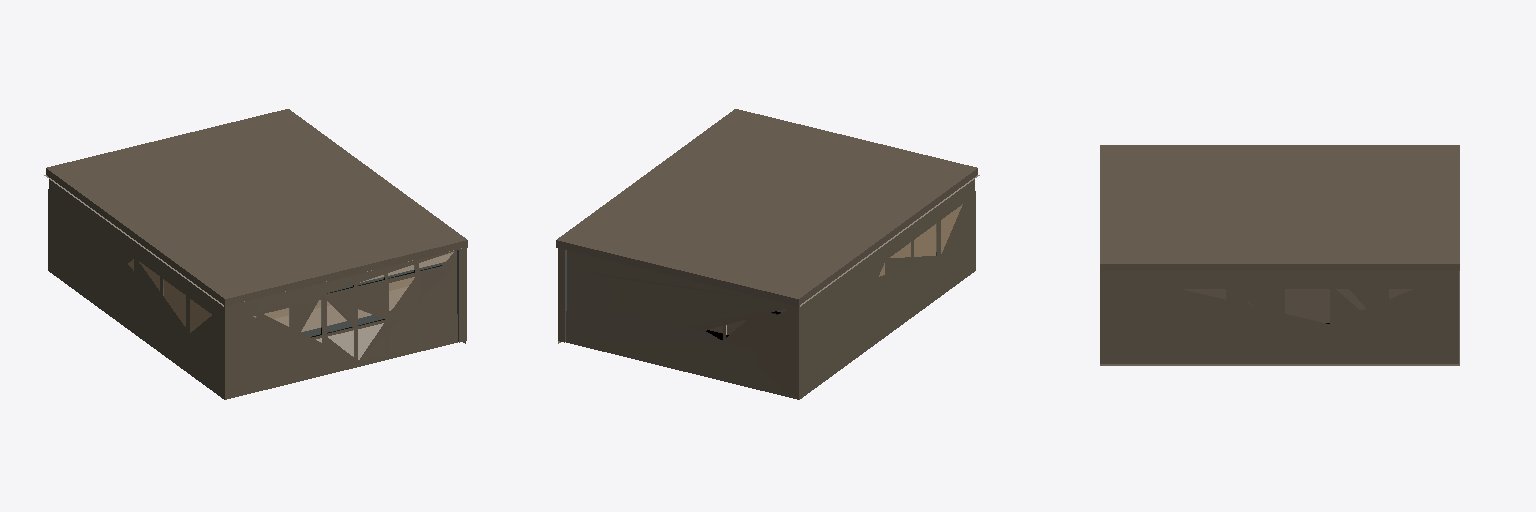
3 renders of one model, left to right at view 1: azimuth 30°, elevation 25°; view 2: azimuth 150°, elevation 25°; view 3: azimuth 270°, elevation 25°, orthographic.
Parts seen in each view (by area): view 1: Cubo, Plano.001, Ventanas_superiores.001, Ventanas_delanteras, Ventanas_inferiores_completas, VentanaSup1.004; view 2: Cubo, Plano.001, Ventanas_delanteras; view 3: Cubo, Plano.001, Ventanas_traseras.
Boxes of the visible parts, x1,y1,x2,y2 form: Cubo: [46, 109, 467, 306]; Plano.001: [44, 175, 466, 399]; Ventanas_superiores.001: [253, 277, 414, 336]; Ventanas_delanteras: [128, 259, 211, 332]; Ventanas_inferiores_completas: [316, 323, 383, 359]; VentanaSup1.004: [333, 252, 453, 291]; Cubo: [556, 109, 977, 306]; Plano.001: [558, 175, 979, 399]; Ventanas_delanteras: [879, 204, 962, 276]; Cubo: [1100, 145, 1459, 270]; Plano.001: [1100, 271, 1459, 365]; Ventanas_traseras: [1183, 289, 1412, 322].
Size of the model in its own units: 34.34 by 13.91 by 43.71.
3 materials, 2 textured.